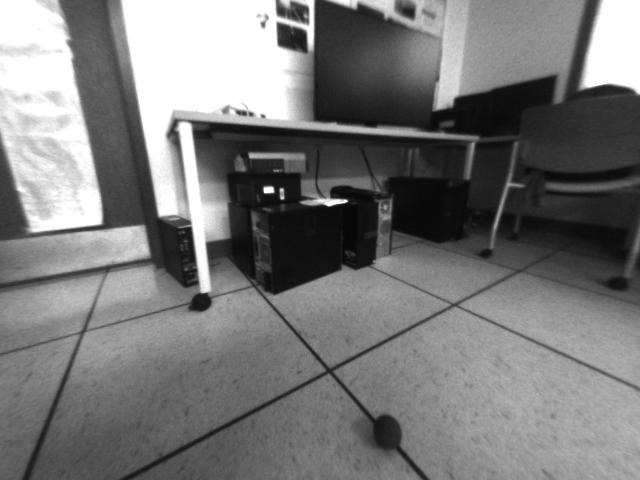dogtoy: (369, 407, 410, 454)
